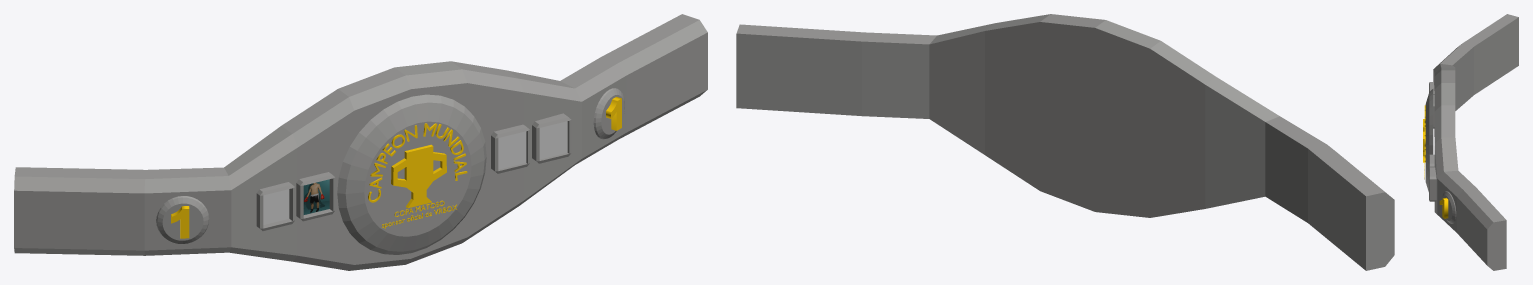
File: cinturon de campeon.fbx
3 views of the same model, side by side, from view 1: azimuth 30°, elevation 25°; view 2: azimuth 150°, elevation 25°; view 3: azimuth 270°, elevation 25° (orthographic). The views are drawn at different scales.
Visible parts, largest first — view 1: Plane, Circle, Plane.001, Text, Text.001, Text.003, Cube, Plane.003, Plane.004, Cube.003, Cube.002, Cube.001 (+3 smaller); view 2: Plane; view 3: Plane, Circle, Text.001, Cube.002, Text.003, Plane.001, Cube.001.
Boxes of the visible parts, x1=… form: Plane: x1=14, y1=14, x2=707, y2=270; Circle: x1=337, y1=94, x2=486, y2=254; Plane.001: x1=391, y1=144, x2=446, y2=208; Text: x1=156, y1=196, x2=209, y2=244; Text.001: x1=593, y1=88, x2=624, y2=139; Text.003: x1=368, y1=123, x2=467, y2=202; Cube: x1=296, y1=172, x2=335, y2=221; Plane.003: x1=498, y1=131, x2=526, y2=169; Plane.004: x1=539, y1=121, x2=567, y2=159; Cube.003: x1=256, y1=182, x2=294, y2=230; Cube.002: x1=532, y1=113, x2=571, y2=163; Cube.001: x1=491, y1=124, x2=529, y2=173; Plane: x1=736, y1=14, x2=1394, y2=270; Plane: x1=1433, y1=14, x2=1518, y2=270; Circle: x1=1425, y1=89, x2=1433, y2=191; Text.001: x1=1439, y1=191, x2=1456, y2=223; Cube.002: x1=1429, y1=167, x2=1436, y2=201; Text.003: x1=1424, y1=105, x2=1425, y2=161; Plane.001: x1=1423, y1=119, x2=1425, y2=162; Cube.001: x1=1429, y1=154, x2=1434, y2=168.
Bounding box in the file's own units: 181 × 47.92 × 34.74.
